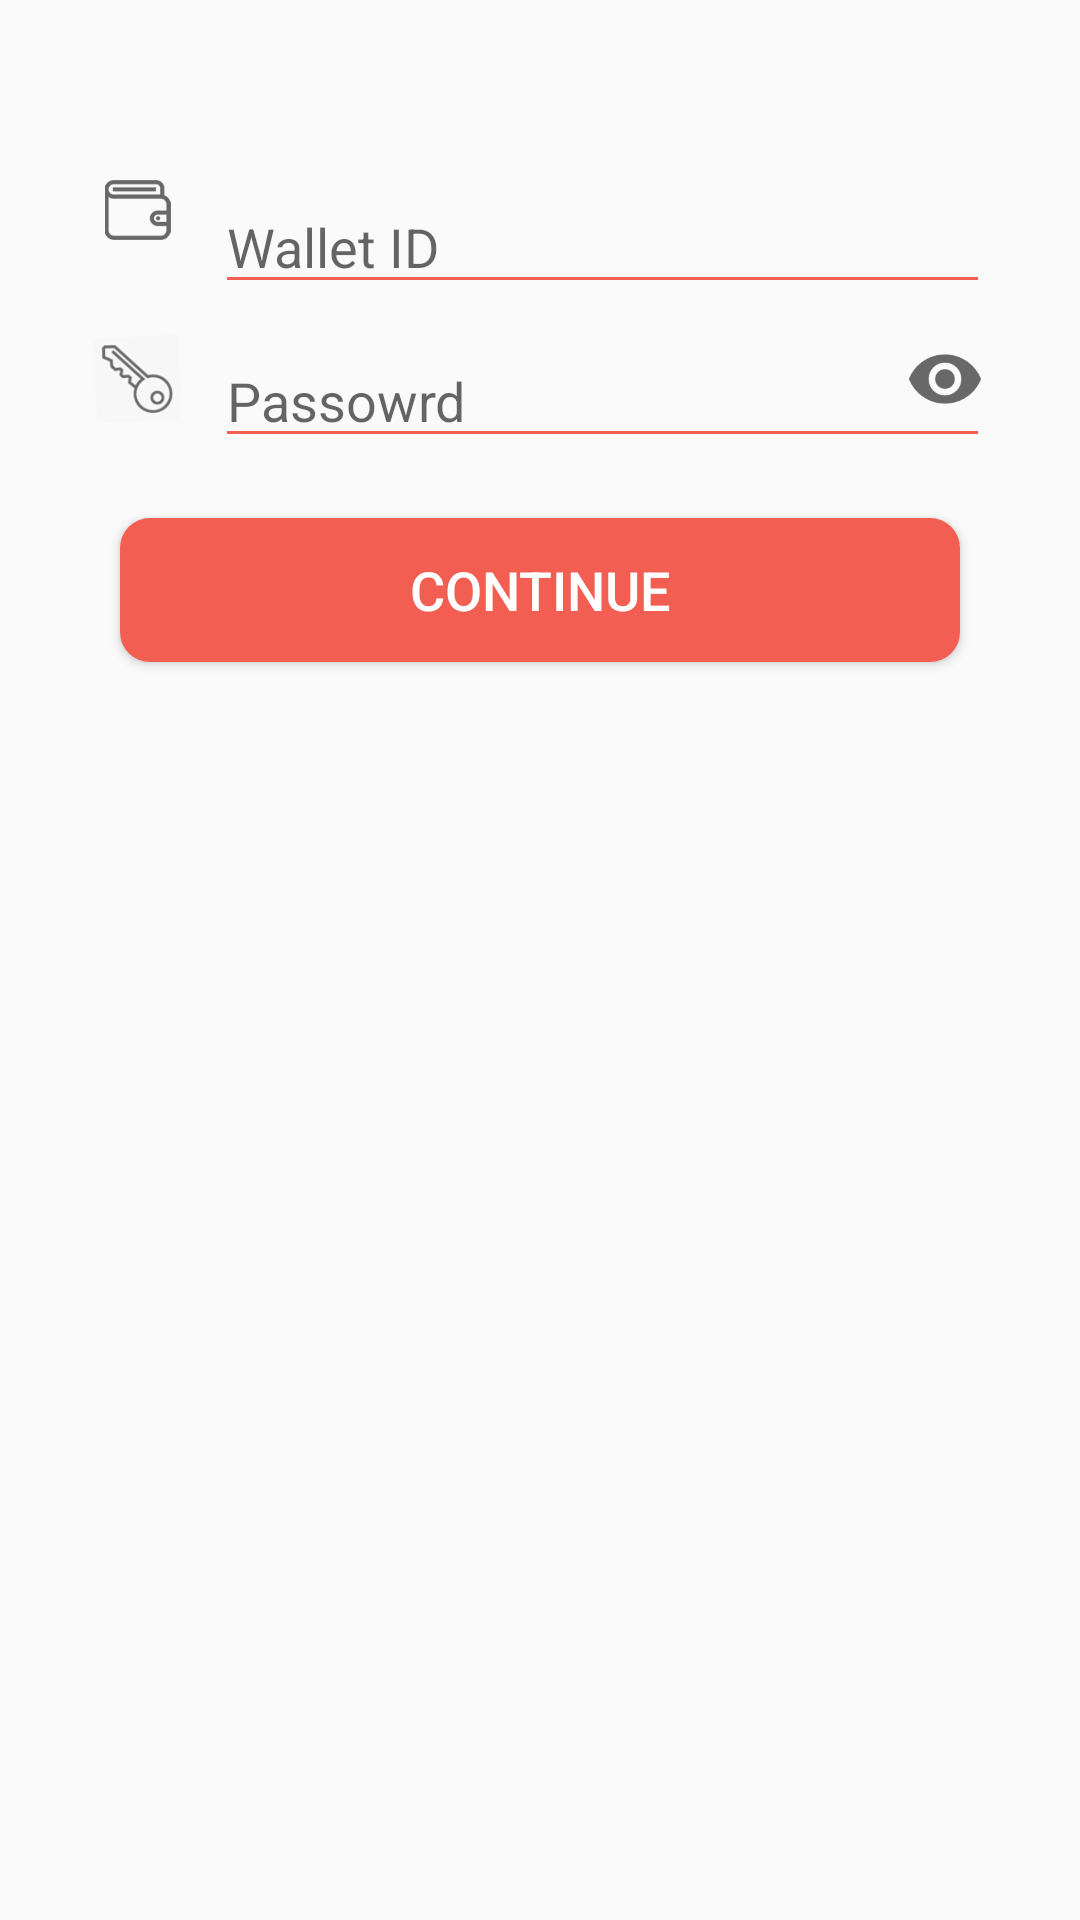

Where icons sit on this 1080*1920 app screen, as box=[x1, y1, x2, y2]:
key: box=[102, 345, 173, 413]
show password: box=[909, 354, 981, 404]
